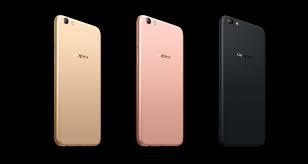oppo: (51, 13, 103, 147), (133, 14, 185, 148), (215, 13, 267, 147)
